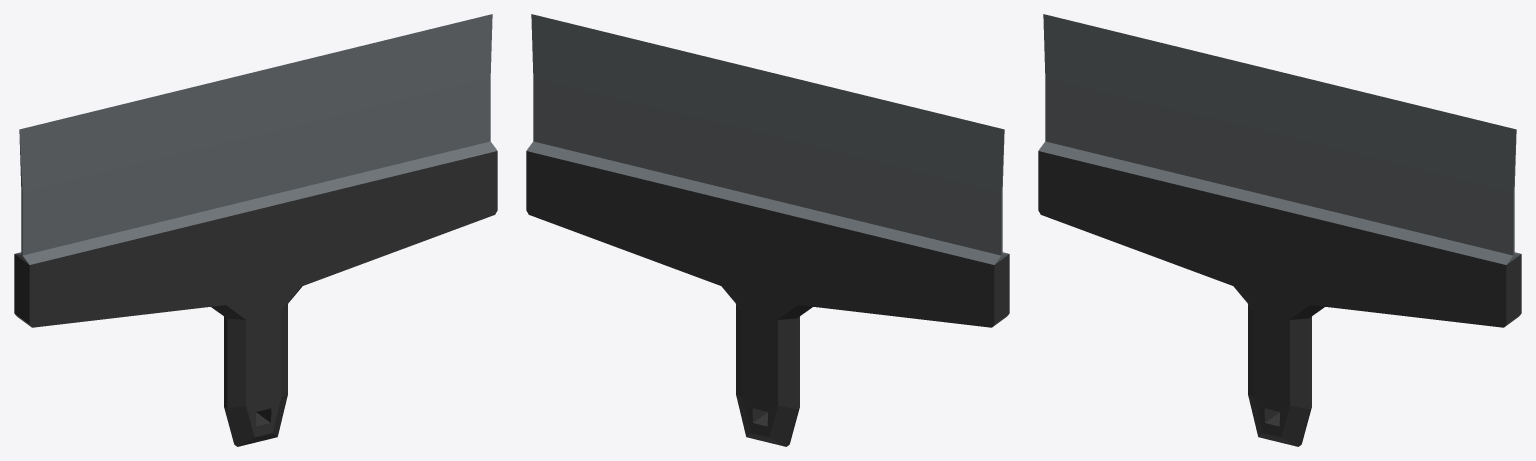
Rendered from Brush_02.fbx.
3 renders of one model, left to right at view 1: azimuth 30°, elevation 25°; view 2: azimuth 150°, elevation 25°; view 3: azimuth 330°, elevation 25°, orthographic.
Visible parts, largest first — view 1: Brush_02; view 2: Brush_02; view 3: Brush_02.
Part boxes in pixels (x1=…): Brush_02: x1=14, y1=14, x2=497, y2=446; Brush_02: x1=526, y1=14, x2=1009, y2=446; Brush_02: x1=1038, y1=14, x2=1521, y2=446.
Size of the model in its own units: 36.33 by 27.08 by 2.04.
